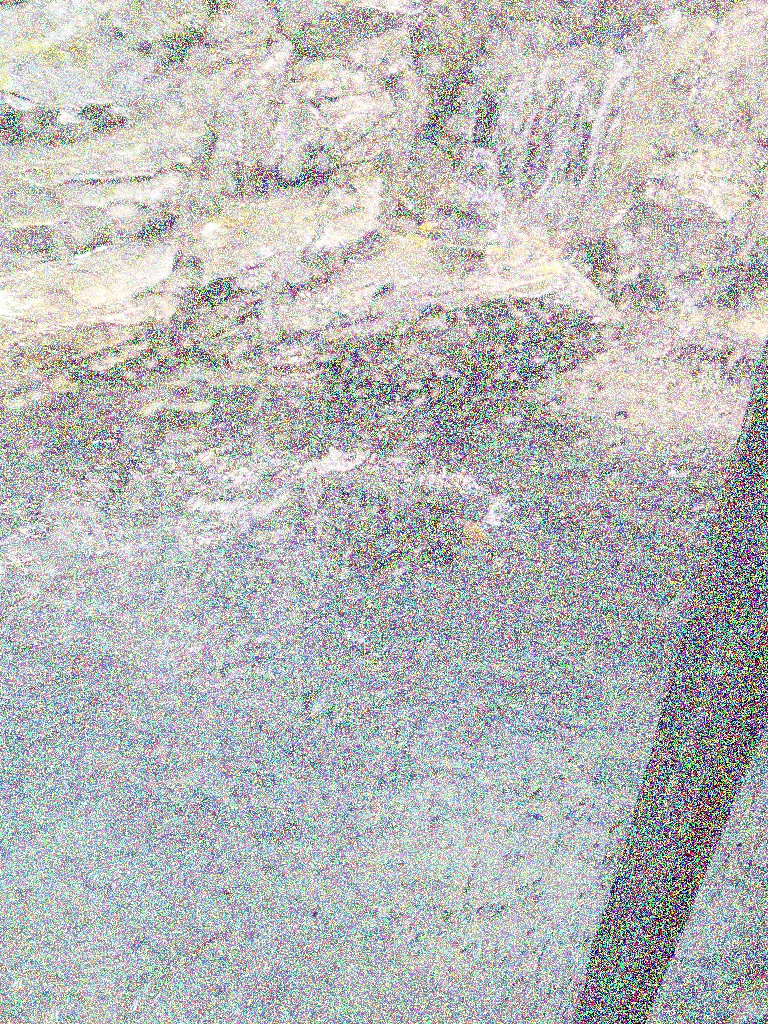puffin: (273, 467, 493, 579), (416, 169, 506, 265)
